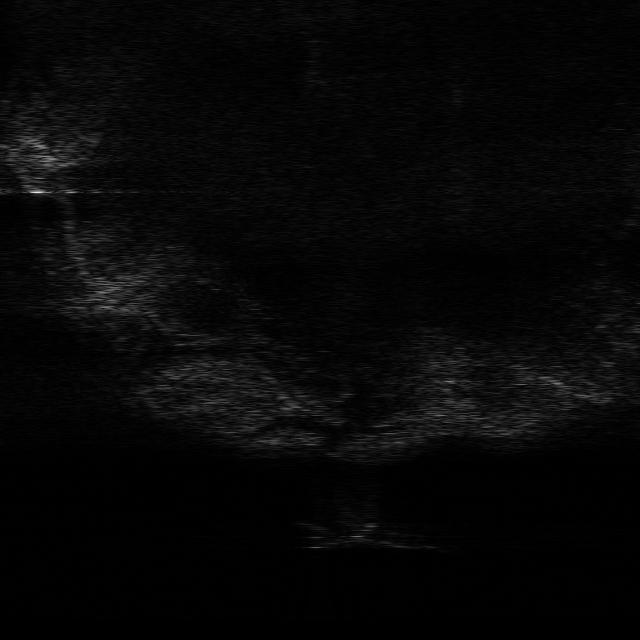plane: (298, 516, 430, 550)
